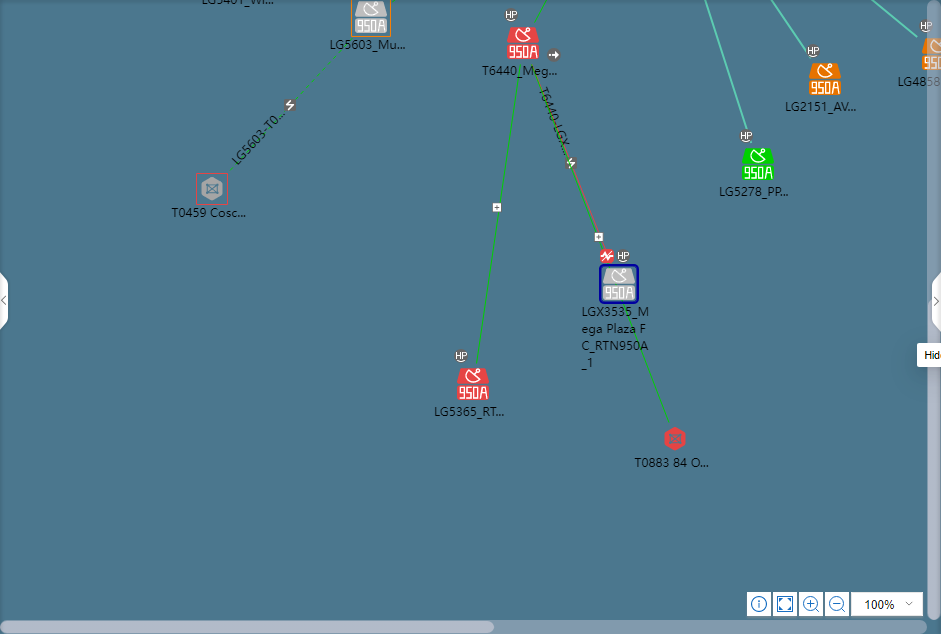Link_Blue: (703, 0, 749, 130), (767, 0, 806, 54), (870, 0, 918, 40)
Link_Green: (229, 38, 352, 171), (474, 64, 522, 367), (529, 63, 604, 250), (622, 305, 673, 426), (532, 0, 551, 24)
RTN_Gray: (353, 0, 388, 35), (601, 268, 635, 301)
RTN_Green: (742, 148, 773, 180)
RTN_Orange: (810, 63, 840, 95), (922, 38, 940, 69)
RTN_Red: (507, 27, 538, 59), (457, 369, 488, 400)
